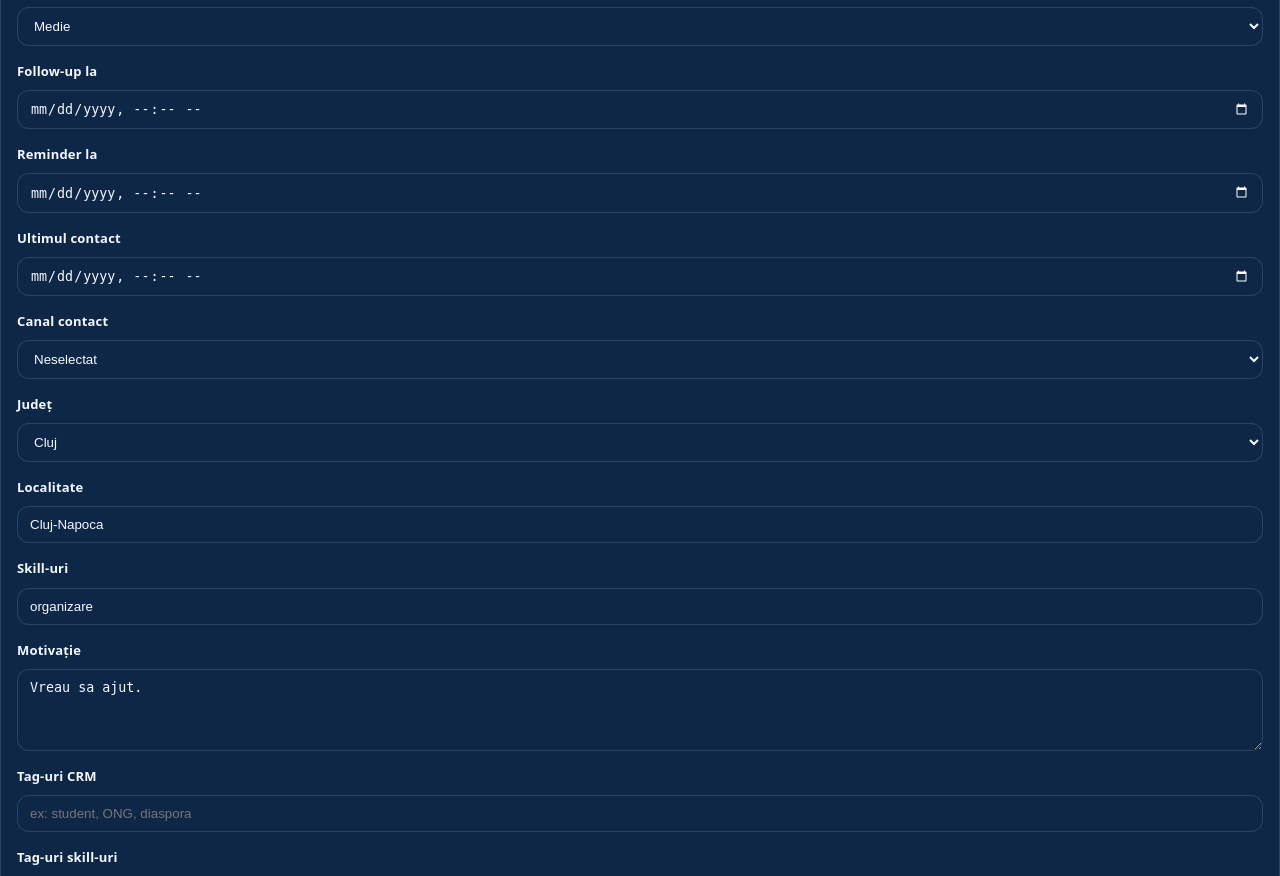
Test case: VolunteerDetailsPanel › resets unsaved workflow edits explicitly
(page scrolled)
Step 1. Select "Timiș" in the dropdown labelled "Județ" → (640, 443), box x1=17 y1=423 x2=1263 y2=462
(page scrolled)
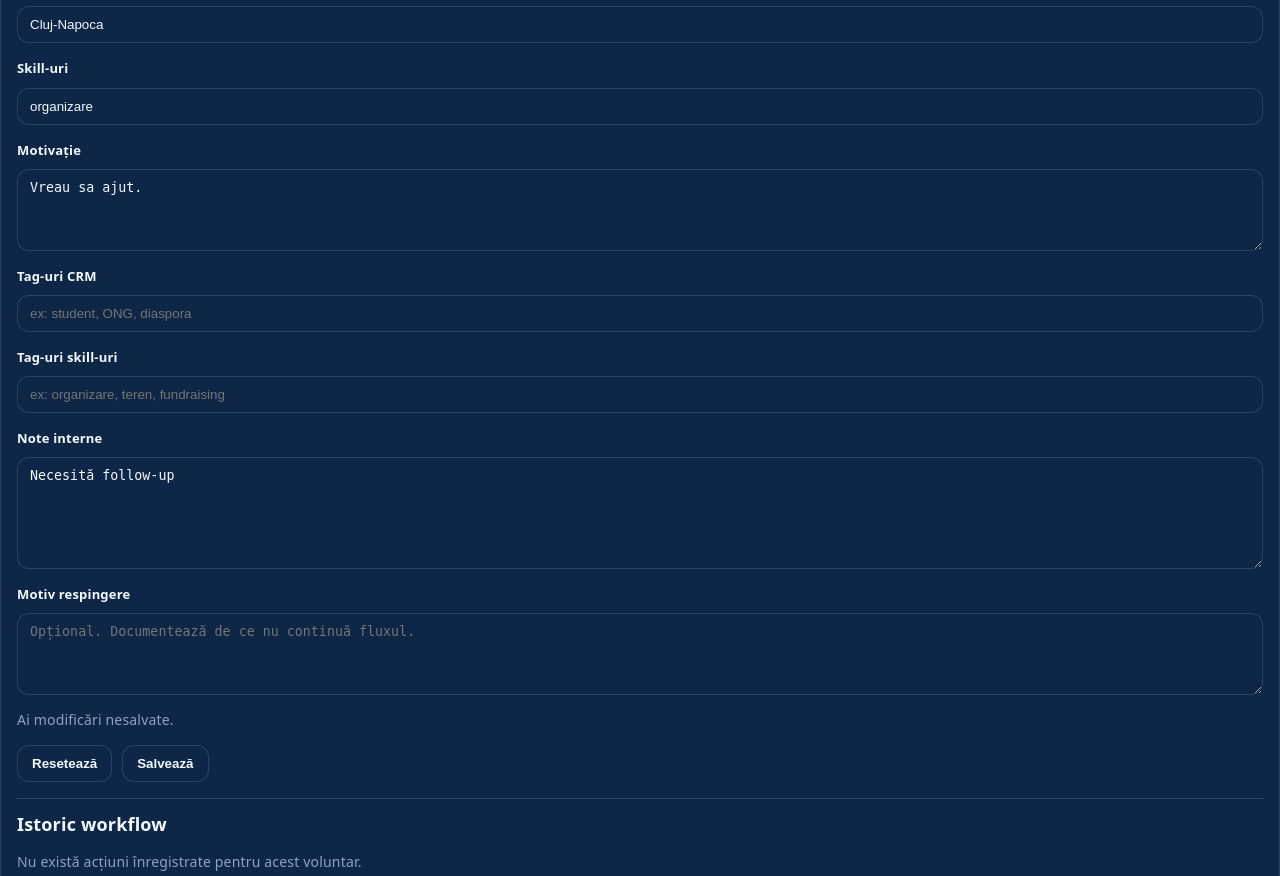
Step 2. Replace the text in the text box labelled "Note interne" with "Draft local" → (640, 513), box x1=17 y1=457 x2=1263 y2=569
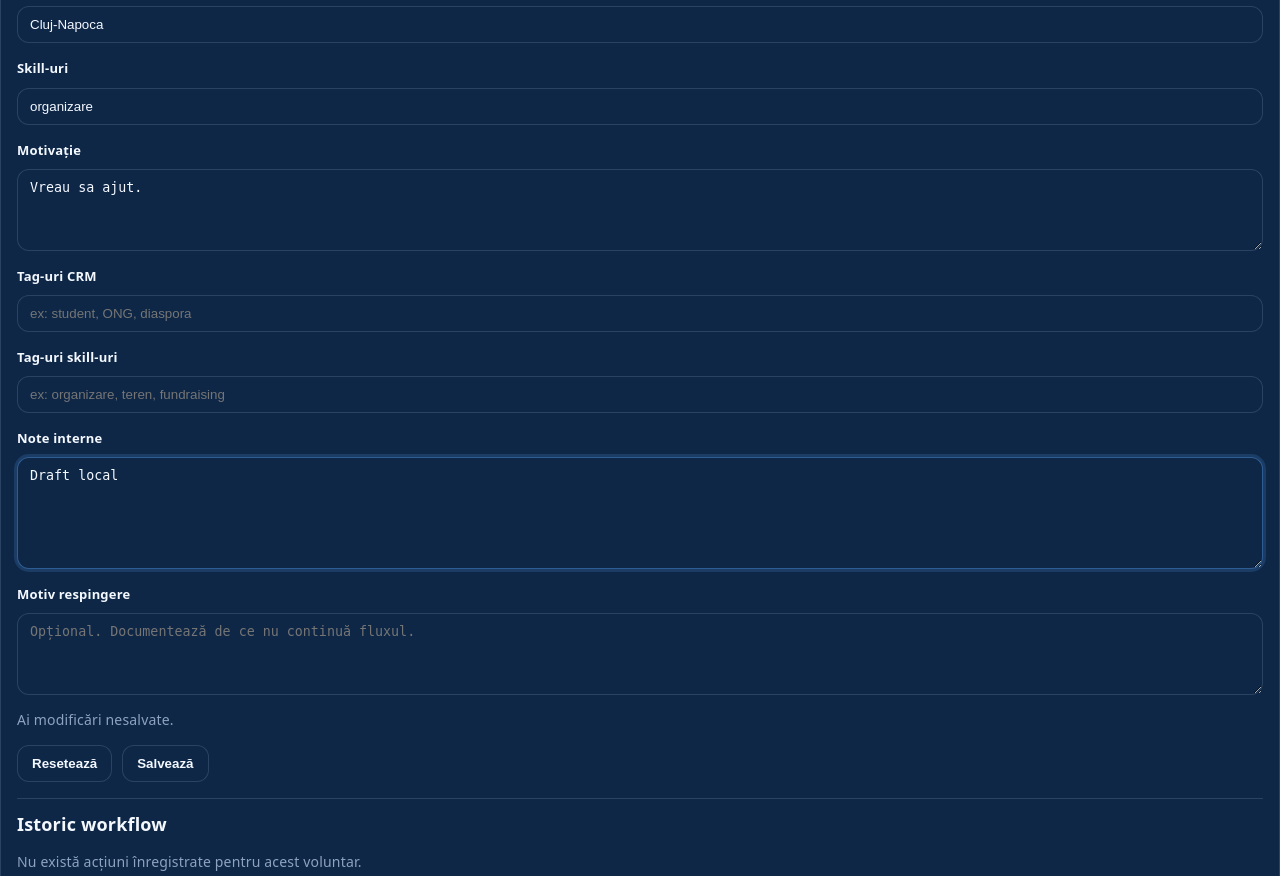
expect the text "Ai modificări nesalvate." is shown: met, box x1=17 y1=710 x2=174 y2=729
Step 3. Click the button "Resetează" → click(65, 764), box x1=17 y1=745 x2=112 y2=782
(page scrolled)
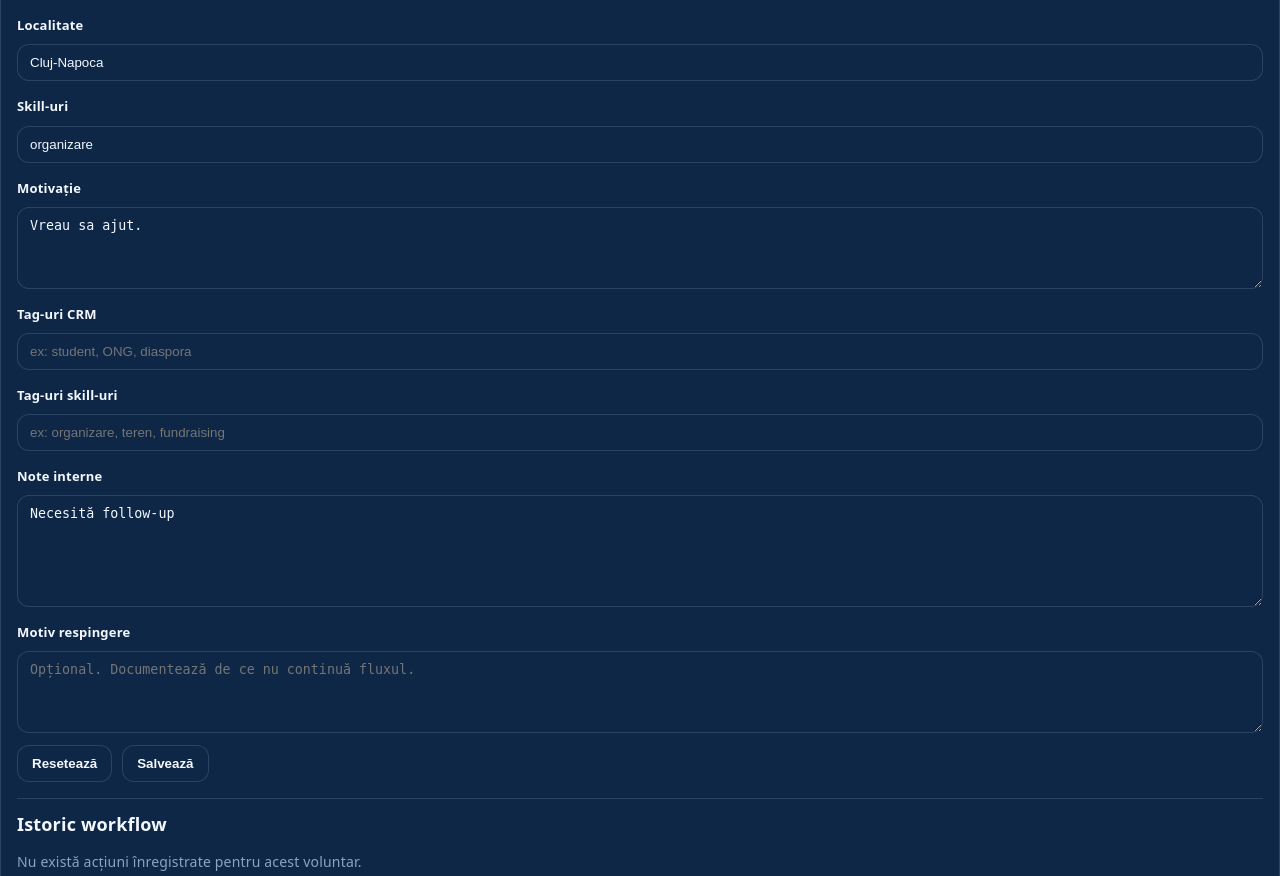
expect the text box labelled "Note interne" holds "Necesită follow-up": met, box x1=17 y1=495 x2=1263 y2=607
expect the text "Ai modificări nesalvate." is gone: met
